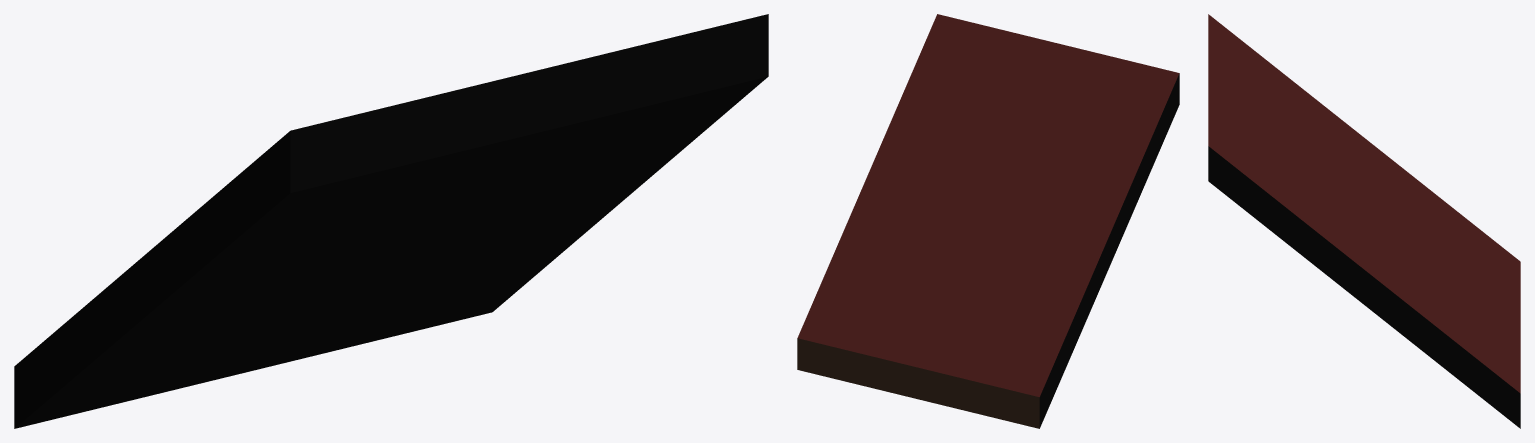
3 views of the same model, side by side, from view 1: azimuth 30°, elevation 25°; view 2: azimuth 150°, elevation 25°; view 3: azimuth 270°, elevation 25° (orthographic). The views are drawn at different scales.
Visible parts, largest first — view 1: Cube.005; view 2: Cube.005; view 3: Cube.005.
Boxes of the visible parts, left/top/right/bottom form: Cube.005: left=14, top=14, right=768, bottom=428; Cube.005: left=797, top=14, right=1179, bottom=428; Cube.005: left=1208, top=14, right=1520, bottom=428.
Size of the model in its own units: 200 by 200 by 200.
